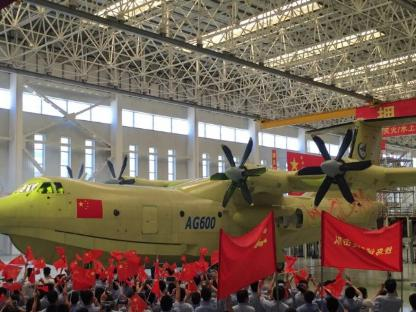AG600: (0, 114, 416, 272)
